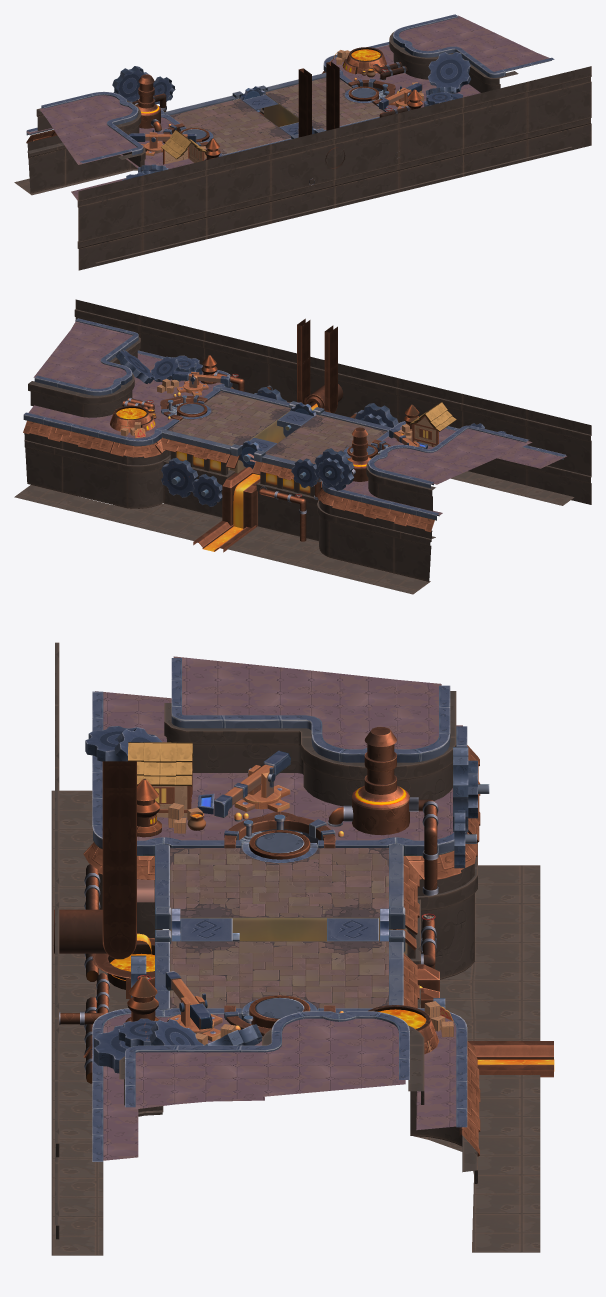
The model's file is DwarvenForge.fbx.
3 renders of one model, top to bottom at view 1: azimuth 30°, elevation 25°; view 2: azimuth 150°, elevation 25°; view 3: azimuth 270°, elevation 25°, orthographic. The views are drawn at different scales.
Parts seen in each view (by area): view 1: Gnom; view 2: Gnom; view 3: Gnom.
Part boxes in pixels (left/top/right/bottom): Gnom: left=14, top=14, right=591, bottom=270; Gnom: left=14, top=299, right=591, bottom=594; Gnom: left=51, top=642, right=554, bottom=1255.
Size of the model in its own units: 7753 by 2130 by 3287.
